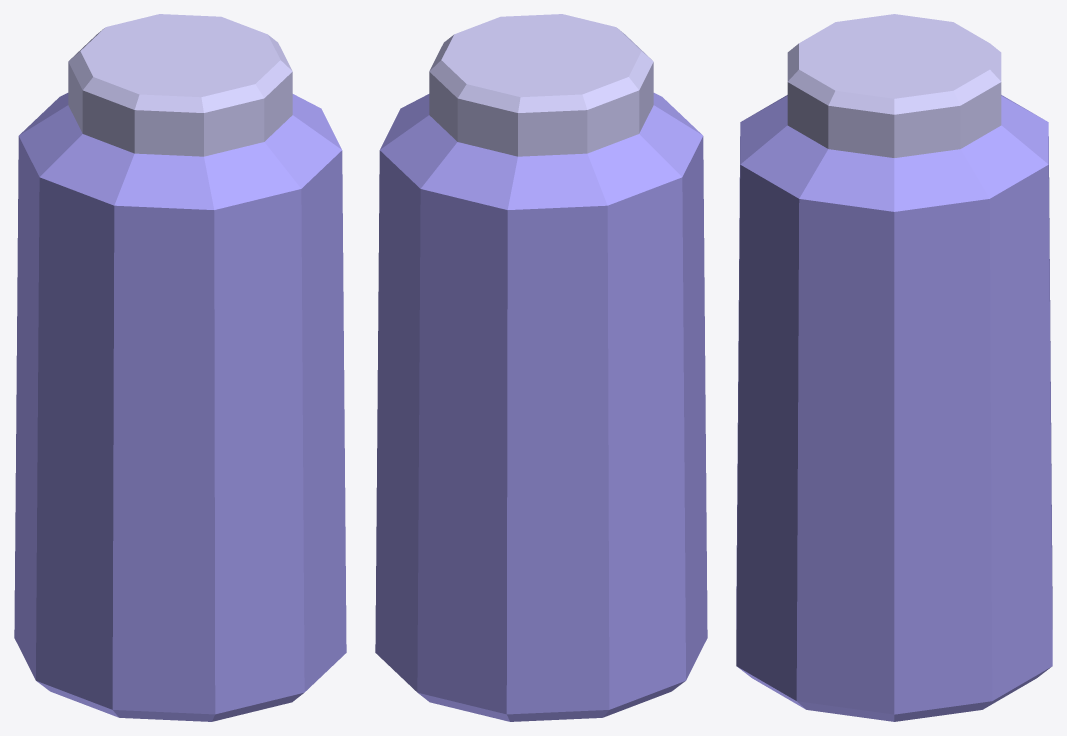
The model's file is Building_018_e.fbx.
3 renders of one model, left to right at view 1: azimuth 30°, elevation 25°; view 2: azimuth 150°, elevation 25°; view 3: azimuth 270°, elevation 25°, orthographic.
Parts seen in each view (by area): view 1: Building_018_e; view 2: Building_018_e; view 3: Building_018_e.
Part boxes in pixels (x1=…): Building_018_e: x1=14, y1=14, x2=346, y2=721; Building_018_e: x1=375, y1=14, x2=707, y2=721; Building_018_e: x1=736, y1=14, x2=1052, y2=721.
Size of the model in its own units: 2.07 by 4.14 by 1.97.
